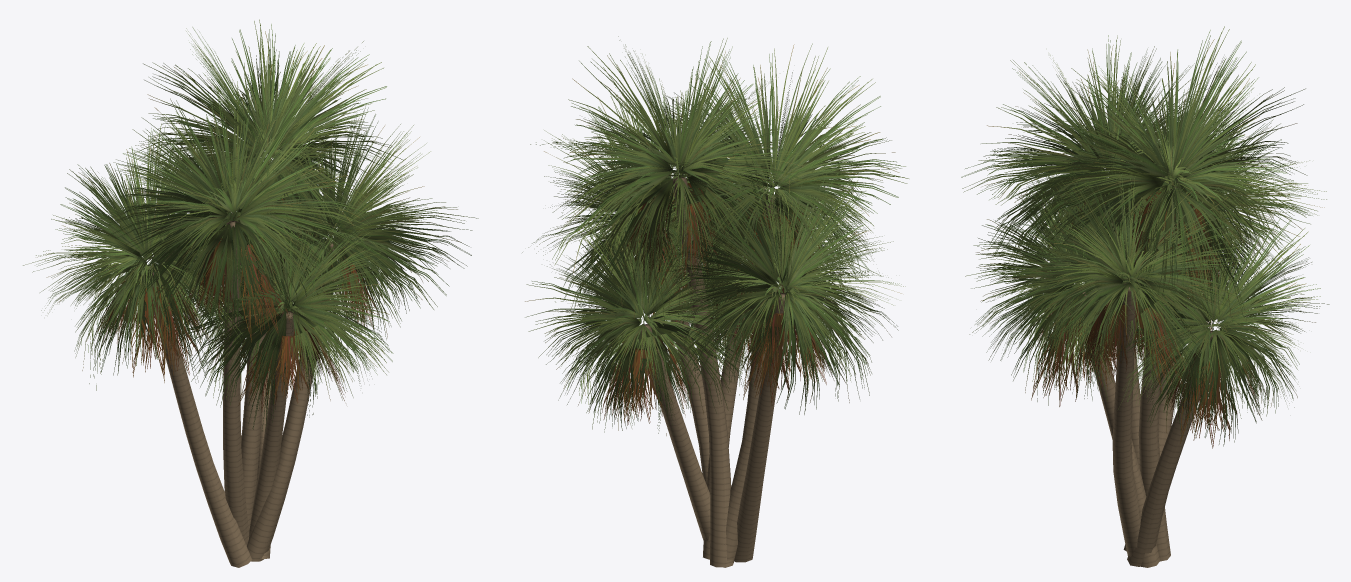
File: mm6_deco_cac23.glb
3 renders of one model, left to right at view 1: azimuth 30°, elevation 25°; view 2: azimuth 150°, elevation 25°; view 3: azimuth 270°, elevation 25°, orthographic. The views are drawn at different scales.
Parts seen in each view (by area): view 1: Plant; view 2: Plant; view 3: Plant.
Boxes of the visible parts, left/top/right/bottom form: Plant: left=23, top=19, right=478, bottom=567; Plant: left=522, top=36, right=908, bottom=567; Plant: left=961, top=26, right=1329, bottom=567.
Size of the model in its own units: 2.73 by 3.41 by 2.3.
Materials: 2 (2 with a texture image).
